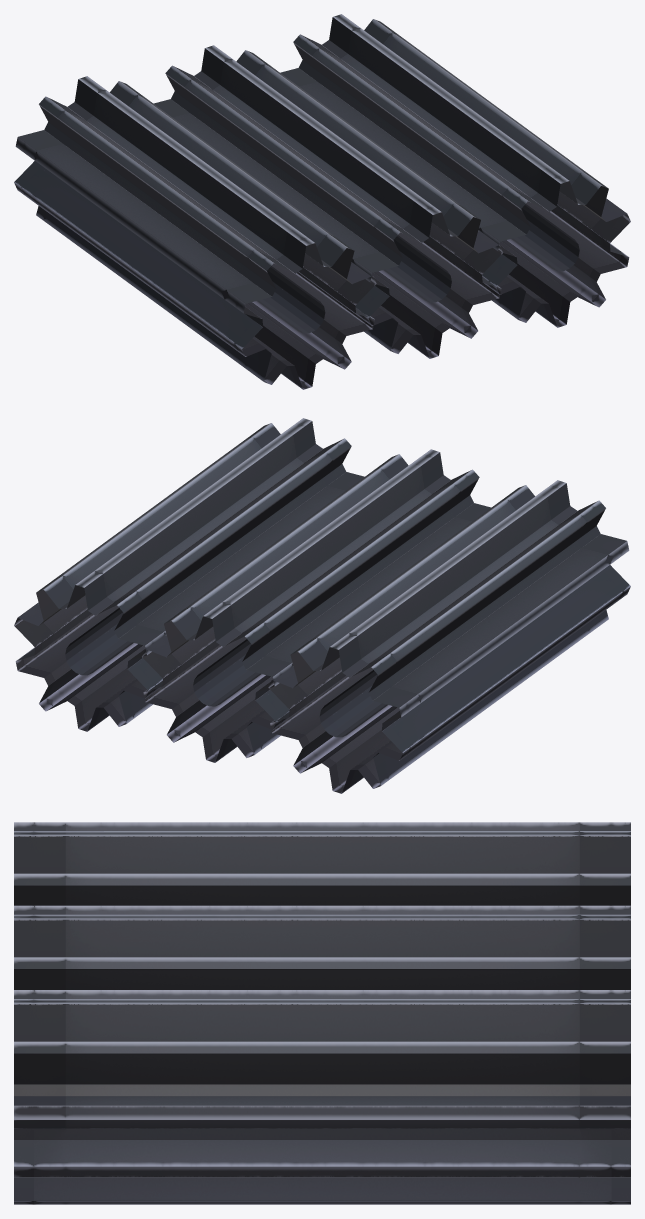
File: Gear Penggiling.fbx
3 views of the same model, one above another, from view 1: azimuth 30°, elevation 25°; view 2: azimuth 150°, elevation 25°; view 3: azimuth 270°, elevation 25° (orthographic). The views are drawn at different scales.
Parts seen in each view (by area): view 1: Penggiling, Penggiling 1, Penggiling 2; view 2: Penggiling, Penggiling 1, Penggiling 2; view 3: Penggiling 1, Penggiling 2, Penggiling.
Boxes of the visible parts, x1,y1,x2,y2 form: Penggiling: (14, 76, 376, 389); Penggiling 1: (280, 14, 630, 327); Penggiling 2: (153, 45, 502, 358); Penggiling: (268, 480, 630, 793); Penggiling 1: (14, 418, 364, 731); Penggiling 2: (142, 449, 491, 762); Penggiling 1: (14, 990, 630, 1204); Penggiling 2: (14, 905, 630, 989); Penggiling: (14, 822, 630, 905).
Size of the model in its own units: 147 by 51.91 by 149.
Materials: 1 (1 with a texture image).
